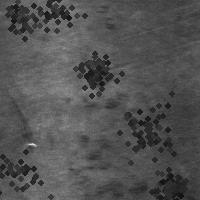rolled-in_scale: (70, 68, 159, 198), (98, 83, 194, 179), (0, 138, 52, 200), (66, 43, 120, 97), (137, 158, 197, 200), (25, 0, 77, 38), (0, 0, 39, 35), (94, 4, 115, 31)
